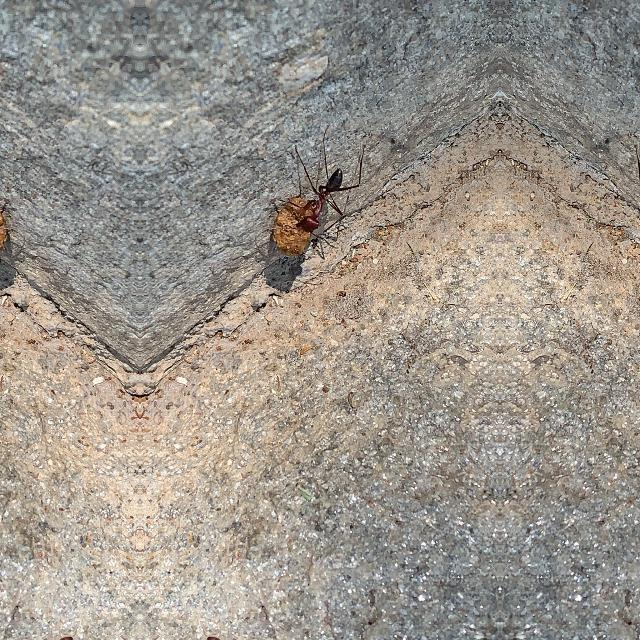Cataglyphis: (295, 150, 351, 246)
